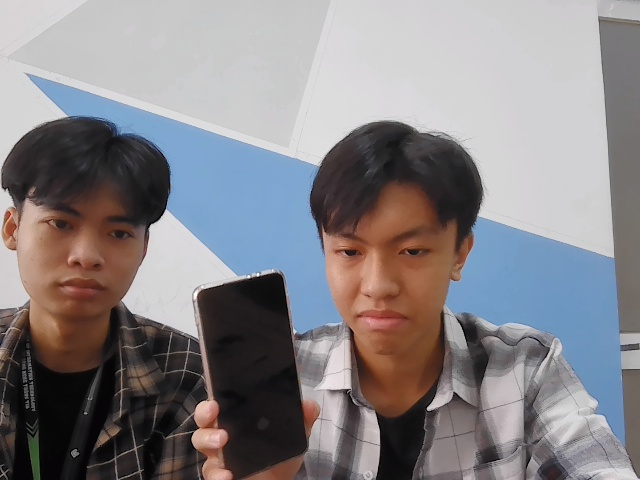human: (1, 113, 172, 345), (311, 113, 472, 357)
phone: (187, 268, 316, 478)
